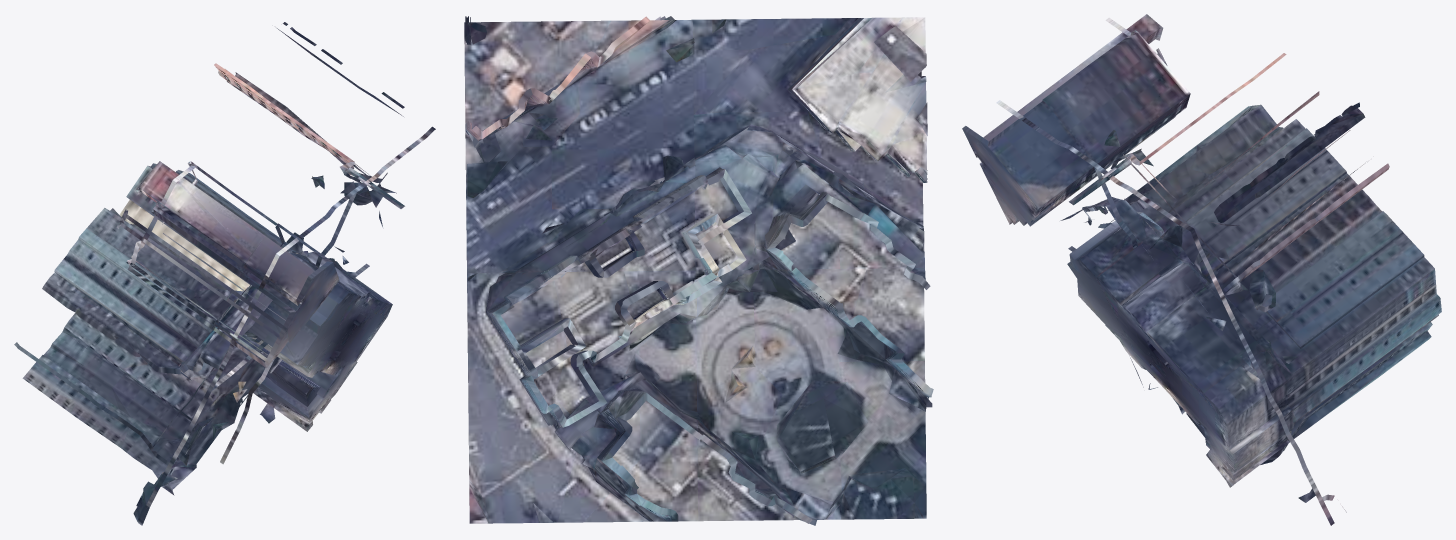
3 renders of one model, left to right at view 1: azimuth 30°, elevation 25°; view 2: azimuth 150°, elevation 25°; view 3: azimuth 270°, elevation 25°, orthographic. The views are drawn at different scales.
Bounding box in the file's own units: 91.44 × 87.44 × 91.18.
1 material, 1 textured.
